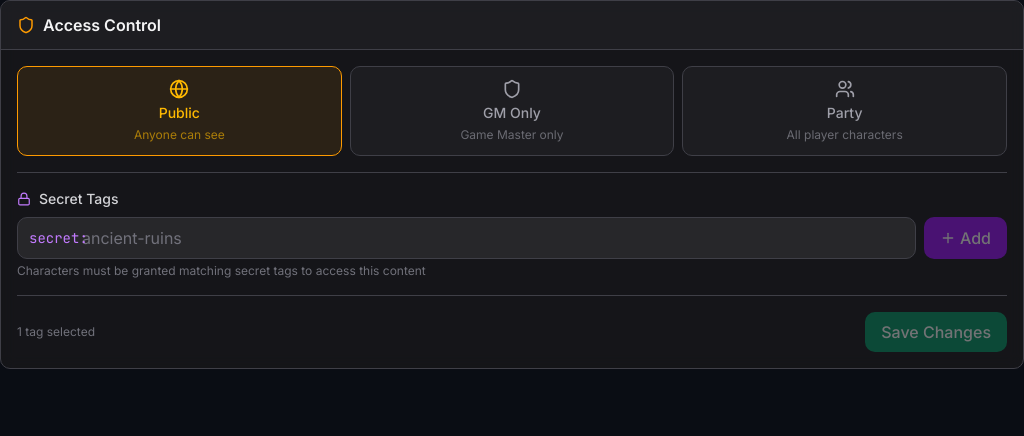
Scenario: ScopeEditor › normalizes secret tag input
The image size is (1024, 436).
Type "Ancient  Artifact!!" into the field with placeholder "ancient-ruins" at {"x": 466, "y": 238}, box [17, 217, 916, 259]
Then press Enter
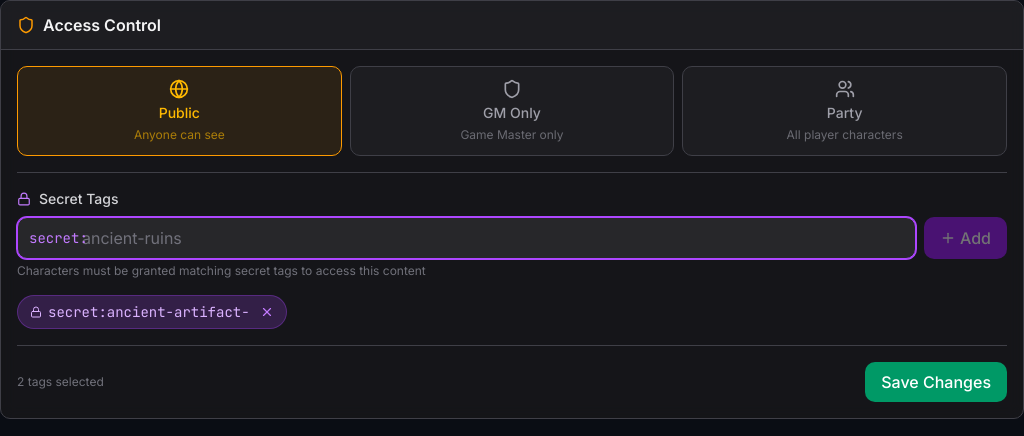
Check: the text "secret:ancient-artifact-" is shown, box [17, 295, 287, 329]
